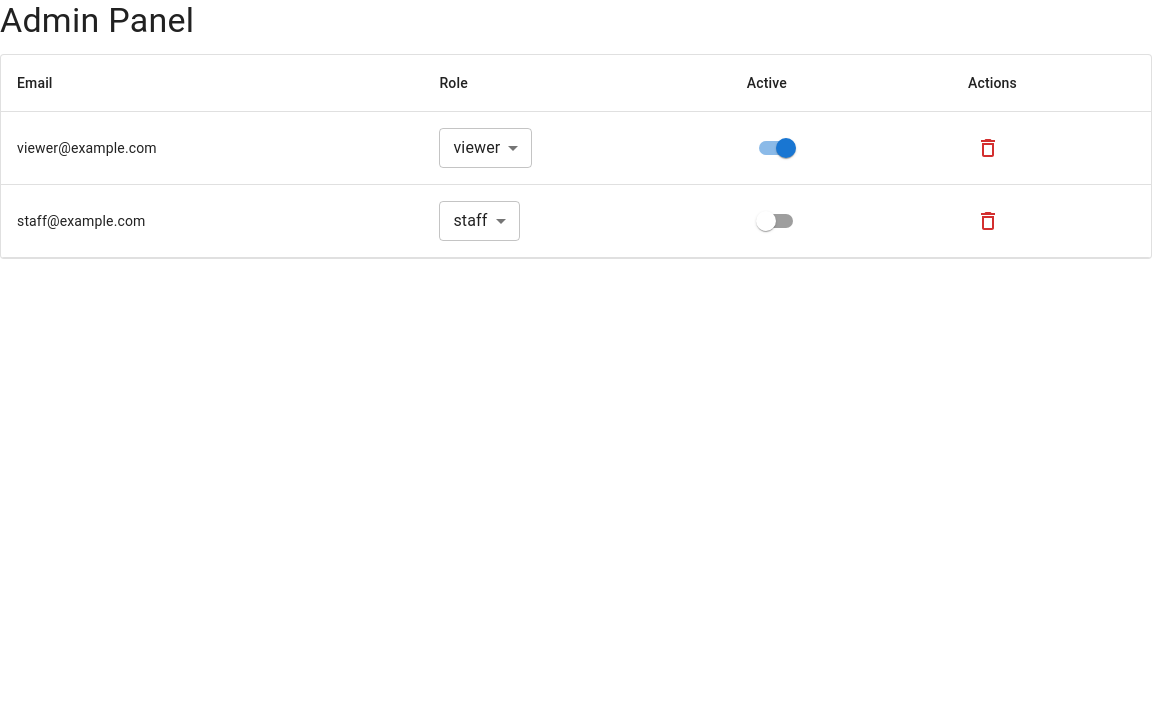
Test: AdminPage › shows a generic error message when deleting fails for a non-API reason
Click the button named "Delete staff@example.com".
click(988, 221)  # box [968, 201, 1008, 241]
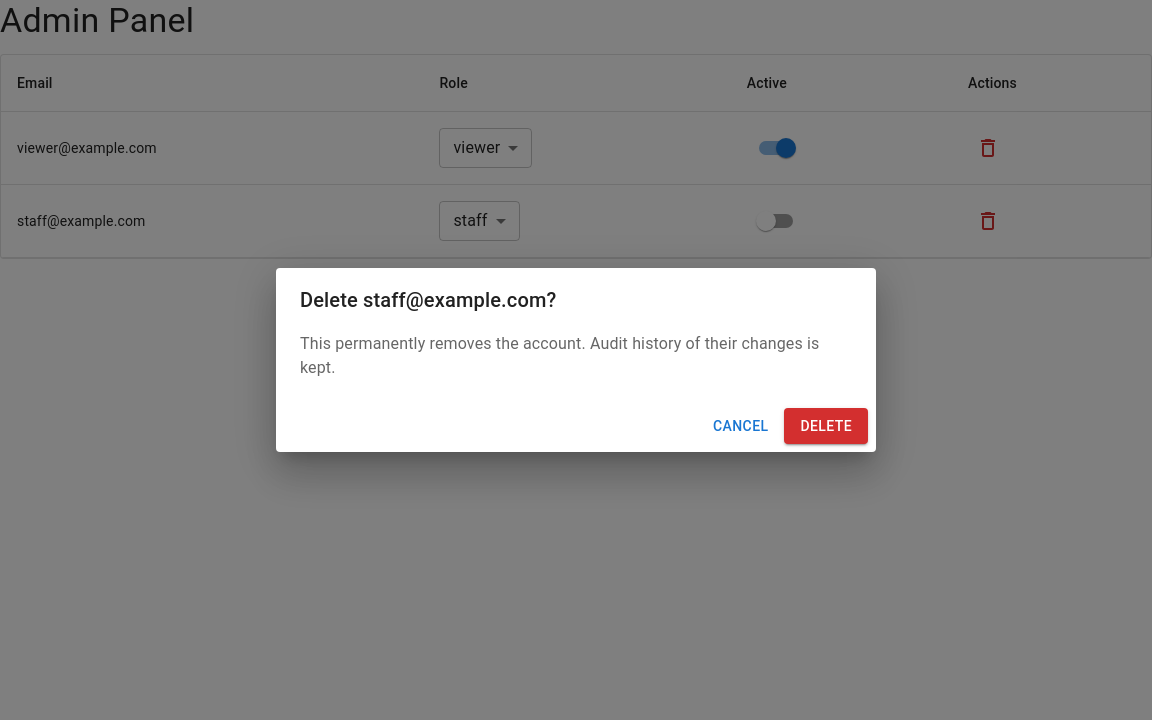
Click the button "Delete".
click(826, 426)  # box [784, 408, 868, 444]
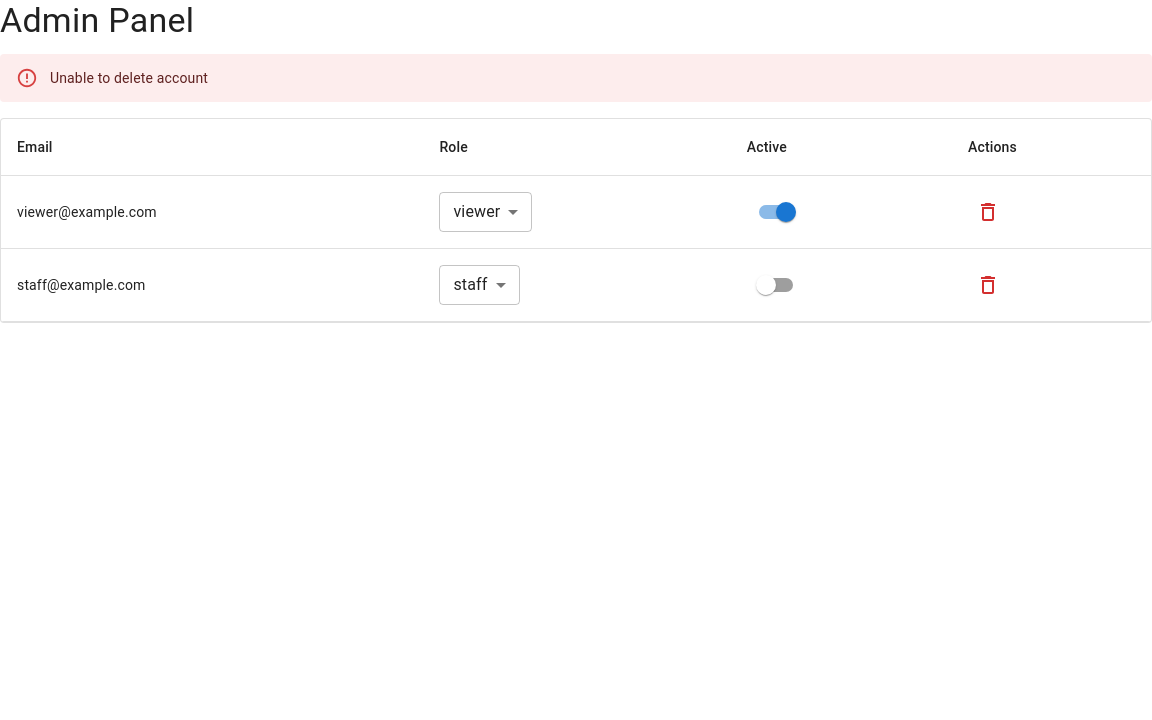
expect the text "Unable to delete account" is shown: met, box [50, 70, 208, 86]
